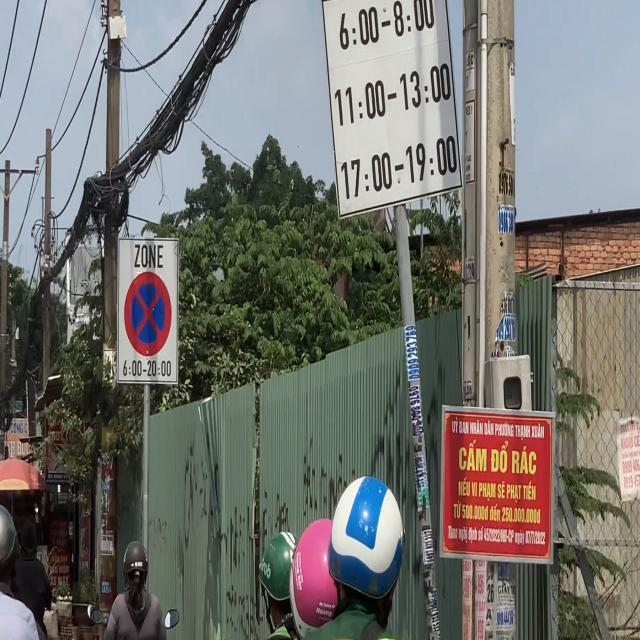Cam dung va do: (124, 271, 172, 357)
